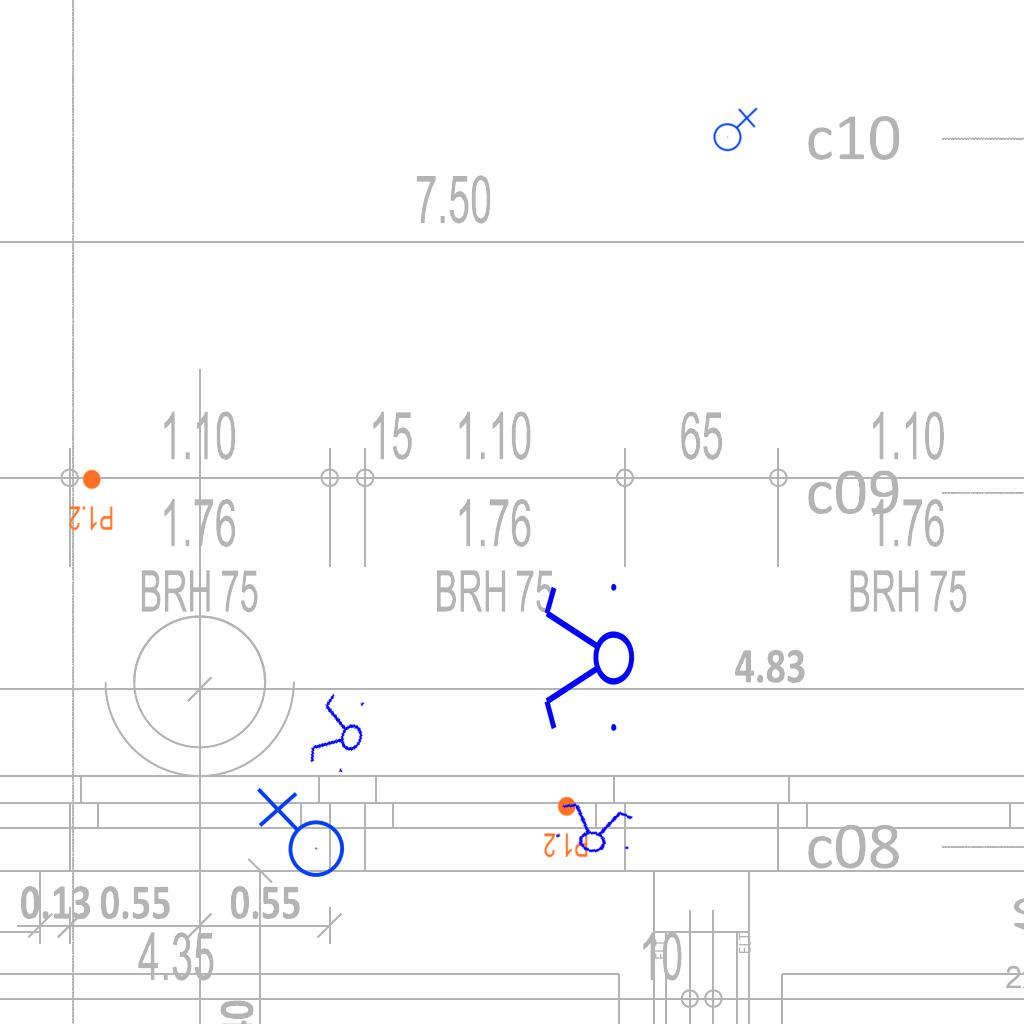Downlight_LED_Einbauleuchten_Flur: (68, 468, 114, 532), (543, 795, 589, 859)
Elektroanschluss_allgemein_230V_Geraeteanschlussdose_230V: (252, 787, 346, 886), (709, 105, 758, 152)
Serienschalter: (540, 575, 636, 743), (303, 686, 375, 782), (548, 798, 640, 860)
